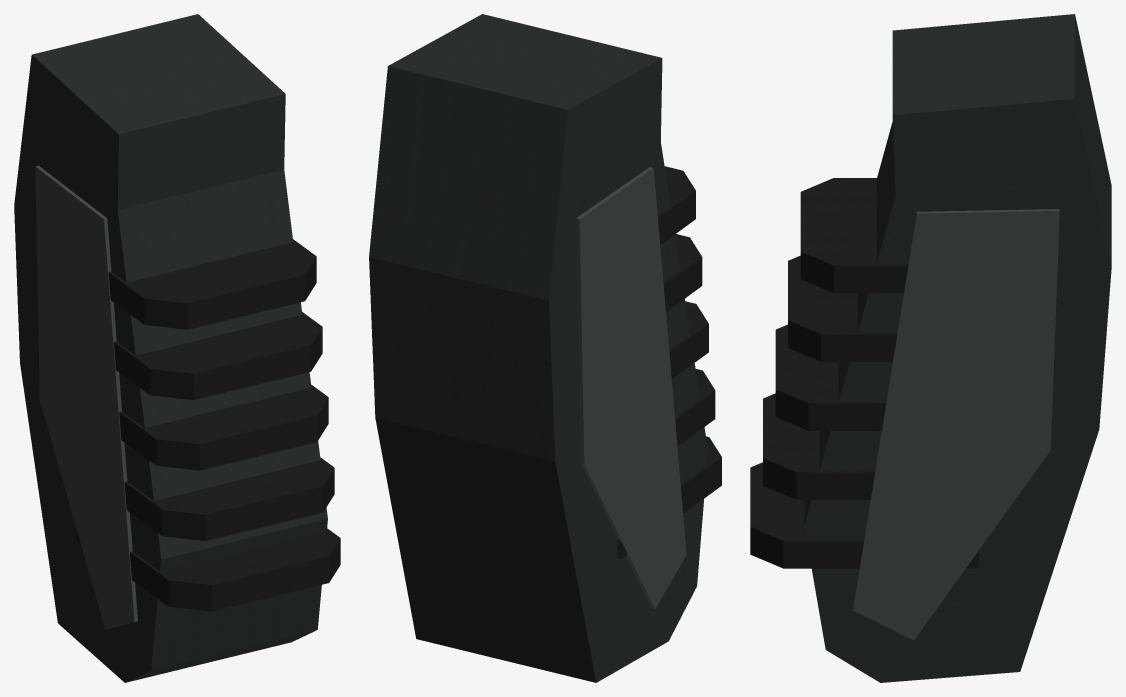
Rendered from ar_wrapped.glb.
3 renders of one model, left to right at view 1: azimuth 30°, elevation 25°; view 2: azimuth 150°, elevation 25°; view 3: azimuth 270°, elevation 25°, orthographic. The views are drawn at different scales.
Parts seen in each view (by area): view 1: ar_wrapped_item_profile.001, ar_wrapped_fabric_tape_band, ar_wrapped_item_profile, ar_wrapped_molded_panel; view 2: ar_wrapped_item_profile.001, ar_wrapped_item_profile, ar_wrapped_molded_panel, ar_wrapped_fabric_tape_band; view 3: ar_wrapped_item_profile, ar_wrapped_molded_panel, ar_wrapped_item_profile.001, ar_wrapped_fabric_tape_band.
Part boxes in pixels (x1,y1,x2,y2): ar_wrapped_item_profile.001: (14,14,327,682); ar_wrapped_fabric_tape_band: (76,239,340,611); ar_wrapped_item_profile: (16,41,314,672); ar_wrapped_molded_panel: (35,165,137,629); ar_wrapped_item_profile.001: (369,14,707,682); ar_wrapped_item_profile: (376,18,705,648); ar_wrapped_molded_panel: (575,167,686,608); ar_wrapped_fabric_tape_band: (617,166,721,558); ar_wrapped_item_profile: (816,19,1111,673); ar_wrapped_molded_panel: (853,209,1059,640); ar_wrapped_item_profile.001: (804,14,1111,682); ar_wrapped_fabric_tape_band: (750,178,979,568).
Bounding box in the file's own units: 0.0688 × 0.212 × 0.1187.
3 materials, 2 textured.
